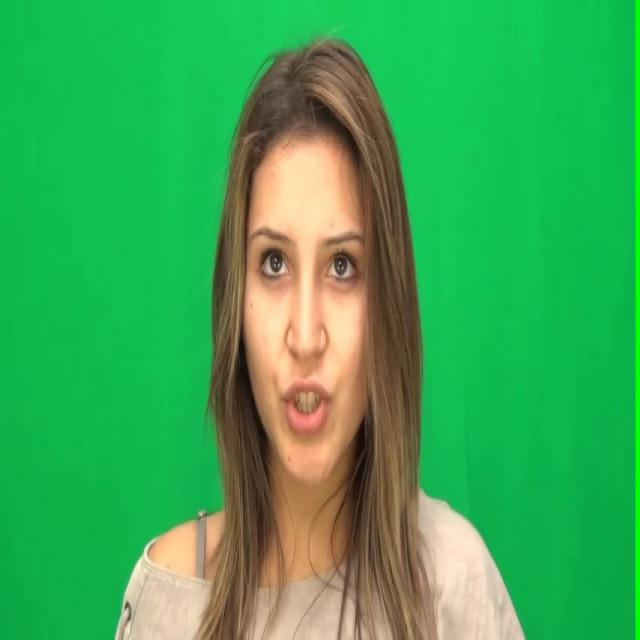Engaged: (243, 125, 384, 479)
